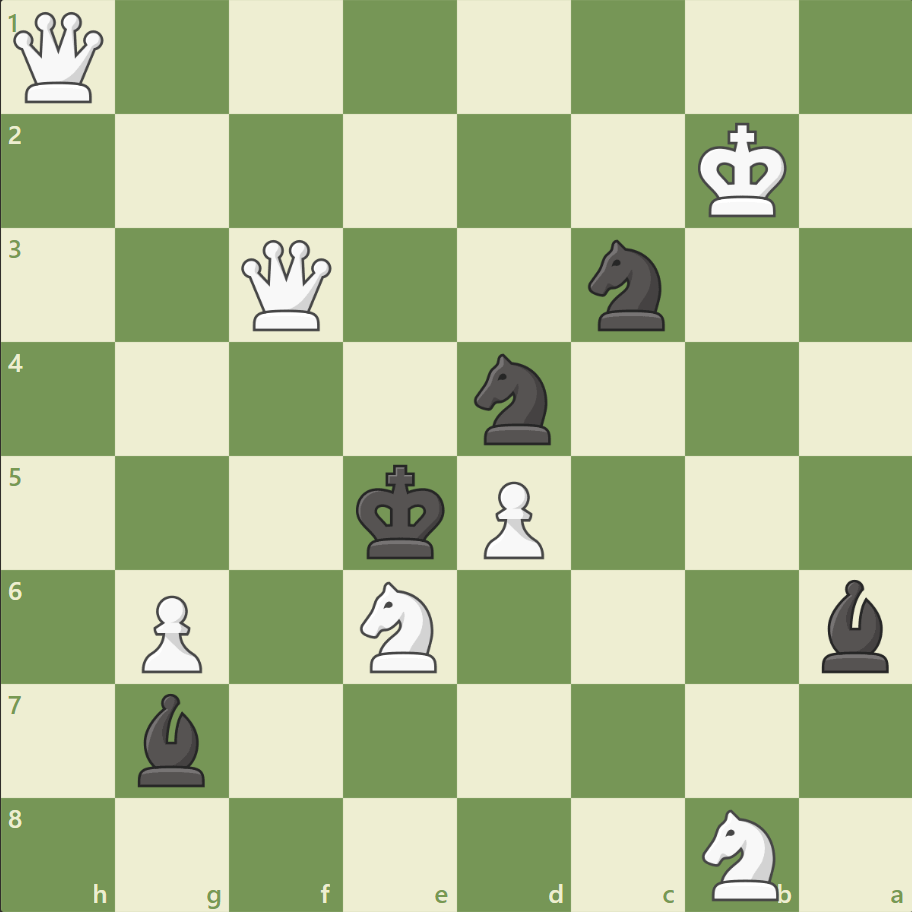K: (692, 117, 792, 225)
N: (351, 575, 449, 677), (692, 802, 789, 904)
P: (133, 586, 208, 677), (474, 473, 549, 564)
Q: (237, 236, 336, 335), (10, 9, 109, 108)
b: (131, 687, 215, 790), (812, 574, 896, 676)
k: (351, 458, 451, 566)
n: (579, 234, 676, 337), (465, 348, 562, 450)
